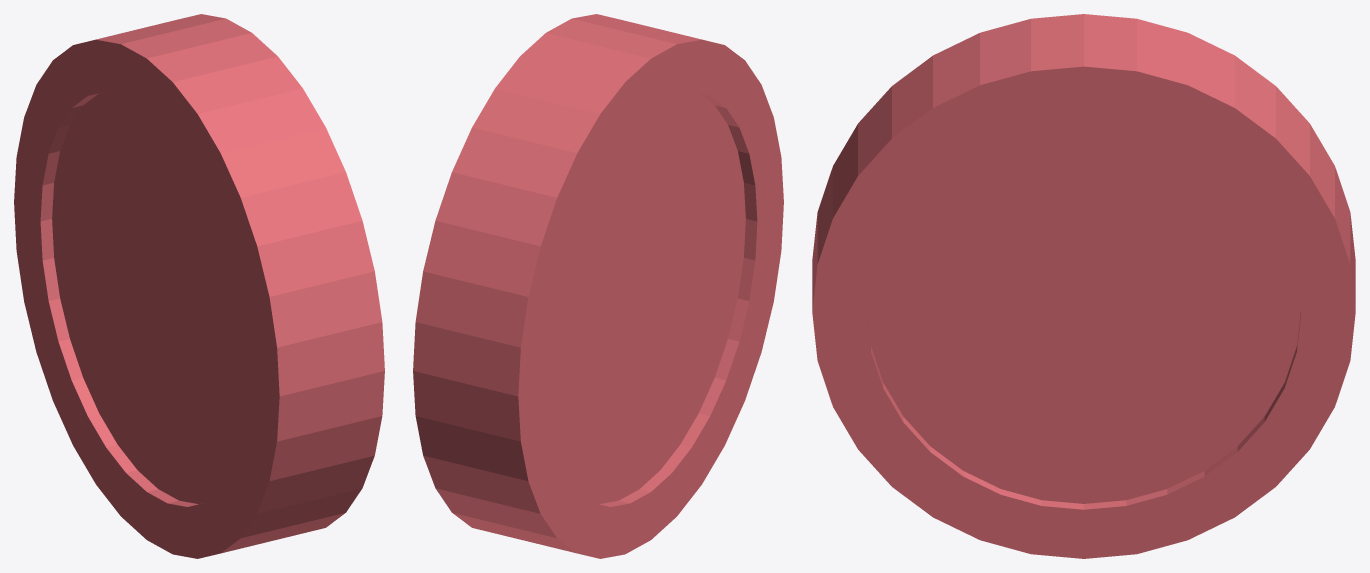
Rendered from money.fbx.
3 renders of one model, left to right at view 1: azimuth 30°, elevation 25°; view 2: azimuth 150°, elevation 25°; view 3: azimuth 270°, elevation 25°, orthographic. The views are drawn at different scales.
Visible parts, largest first — view 1: money; view 2: money; view 3: money.
Boxes of the visible parts, x1=… form: money: x1=14, y1=14, x2=384, y2=558; money: x1=413, y1=14, x2=783, y2=558; money: x1=812, y1=14, x2=1355, y2=558.
Size of the model in its own units: 45.78 by 200 by 200.
